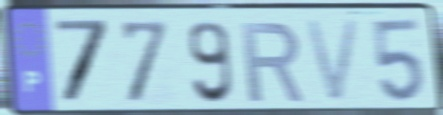5: (369, 16, 428, 105)
7: (52, 17, 113, 110), (119, 18, 172, 108)
9: (186, 18, 235, 107)
R: (239, 19, 307, 105)
V: (300, 16, 364, 106)
